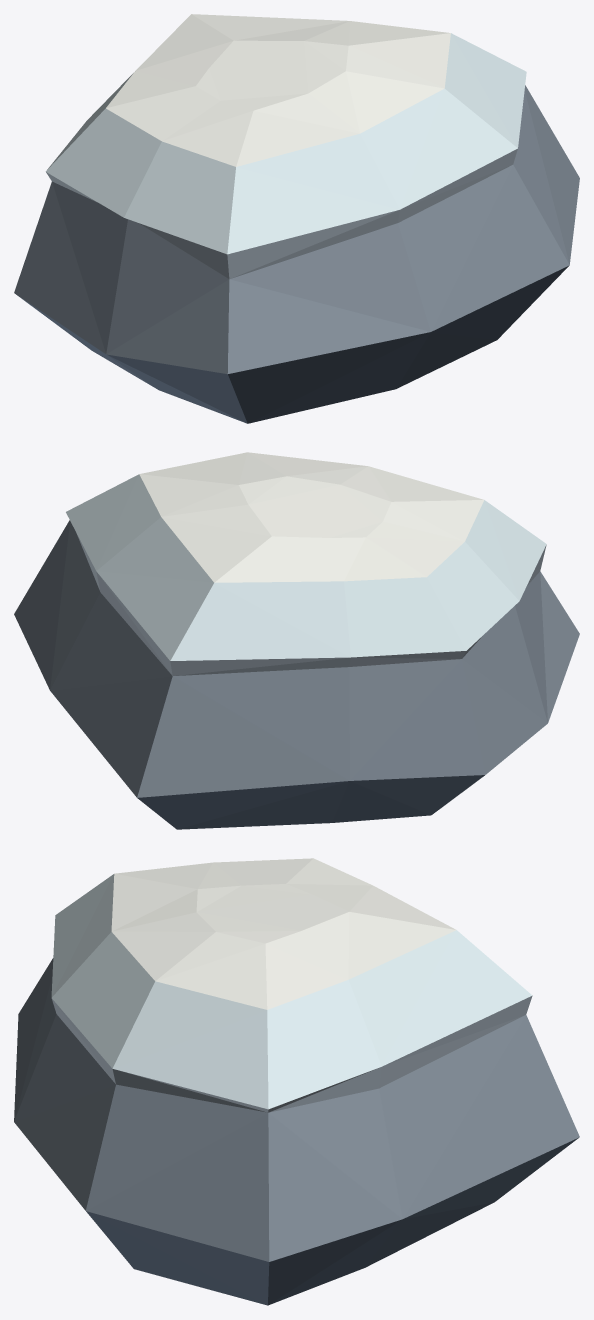
The model's file is Boulder.fbx.
3 renders of one model, top to bottom at view 1: azimuth 30°, elevation 25°; view 2: azimuth 150°, elevation 25°; view 3: azimuth 270°, elevation 25°, orthographic. The views are drawn at different scales.
Visible parts, largest first — view 1: Boulder; view 2: Boulder; view 3: Boulder.
Boxes of the visible parts, x1=… form: Boulder: x1=14, y1=14, x2=579, y2=423; Boulder: x1=14, y1=452, x2=579, y2=829; Boulder: x1=14, y1=858, x2=579, y2=1305.
Bounding box in the file's own units: 3.48 × 1.69 × 3.08.
1 material, 1 textured.
